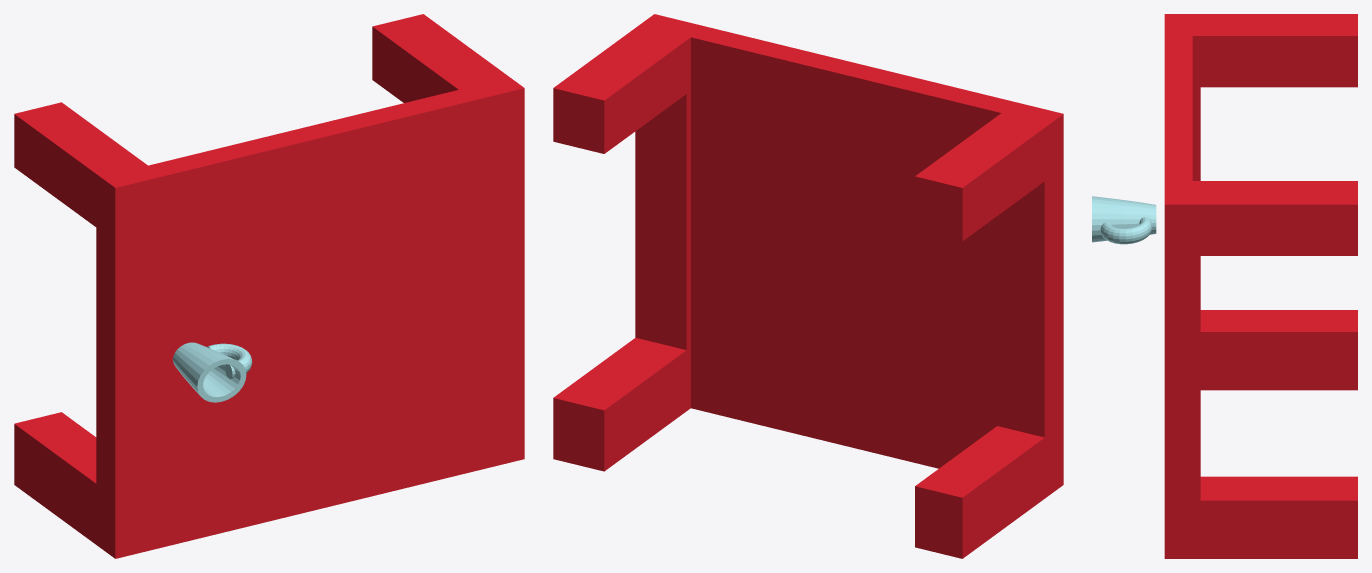
The model's file is tinker.obj.
3 renders of one model, left to right at view 1: azimuth 30°, elevation 25°; view 2: azimuth 150°, elevation 25°; view 3: azimuth 270°, elevation 25°, orthographic. The views are drawn at different scales.
Parts seen in each view (by area): view 1: group_0_15277357, group_0_11593967; view 2: group_0_15277357; view 3: group_0_15277357, group_0_11593967.
Part boxes in pixels (left/top/right/bottom): group_0_15277357: left=14, top=14, right=524, bottom=558; group_0_11593967: left=173, top=342, right=252, bottom=402; group_0_15277357: left=553, top=14, right=1063, bottom=558; group_0_15277357: left=1164, top=14, right=1357, bottom=558; group_0_11593967: left=1092, top=196, right=1156, bottom=244.
Bounding box in the file's own units: 112 × 97 × 66.
